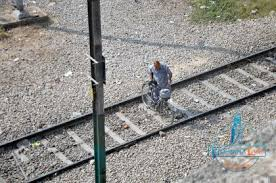crossing railway track: (147, 61, 176, 121)
